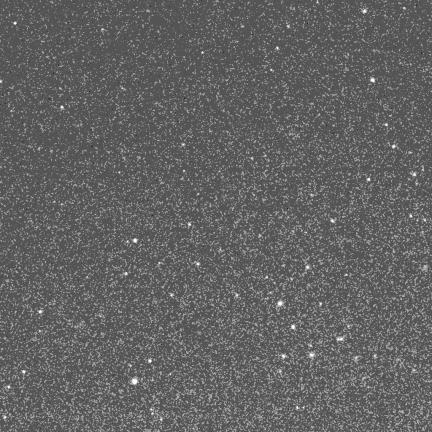blob: (132, 379, 137, 385), (309, 353, 315, 358), (278, 301, 283, 306), (306, 265, 311, 270), (337, 337, 343, 341), (370, 78, 375, 82), (319, 302, 323, 307), (362, 9, 367, 13), (39, 310, 43, 315), (291, 324, 295, 329), (282, 354, 286, 358), (258, 234, 262, 238), (265, 276, 269, 280), (148, 359, 152, 363), (7, 385, 11, 389), (133, 238, 137, 242), (22, 370, 26, 374), (287, 25, 291, 29), (373, 354, 377, 358), (392, 144, 396, 148), (276, 47, 280, 51), (61, 106, 64, 110), (197, 262, 200, 266), (119, 171, 122, 175), (188, 222, 191, 226), (413, 172, 416, 176), (14, 22, 18, 25), (331, 219, 334, 223), (125, 272, 128, 275), (367, 178, 370, 181), (3, 416, 6, 419), (385, 123, 388, 126), (202, 52, 205, 55), (410, 214, 412, 218)
